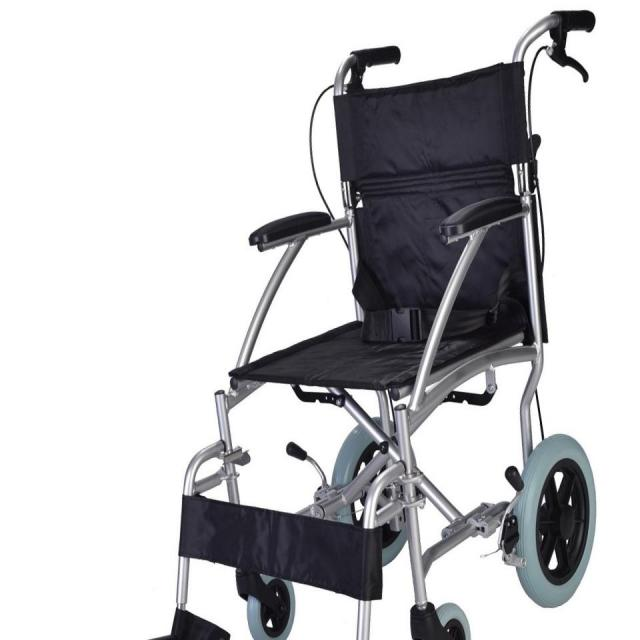wheelchair: (150, 11, 640, 640)
